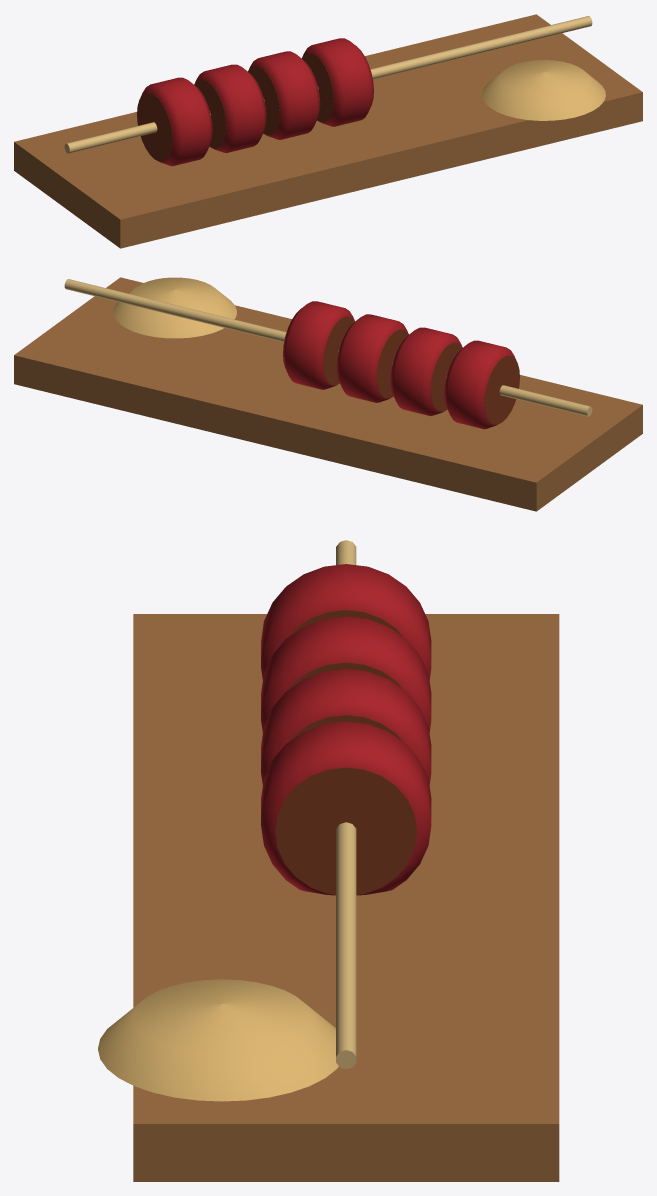
File: espeto-medalhao.glb
The picture shows the model from 3 angles, top to bottom: view 1: azimuth 30°, elevation 25°; view 2: azimuth 150°, elevation 25°; view 3: azimuth 270°, elevation 25°; orthographic projection. The views are drawn at different scales.
Parts seen in each view (by area): view 1: espeto-medalhao; view 2: espeto-medalhao; view 3: espeto-medalhao.
Part boxes in pixels (<box>): espeto-medalhao: <box>14,14,642,248</box>; espeto-medalhao: <box>14,277,642,511</box>; espeto-medalhao: <box>98,540,559,1181</box>.
Size of the model in its own units: 0.34 by 0.062 by 0.13.
